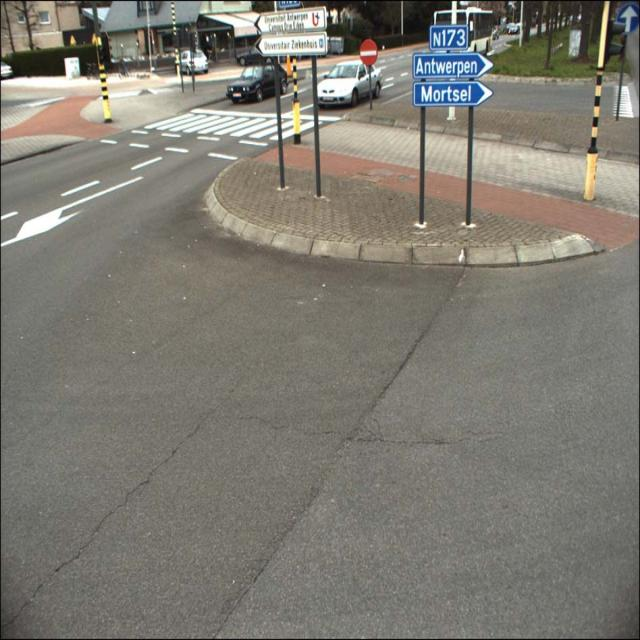girisyok: (360, 38, 377, 67)
